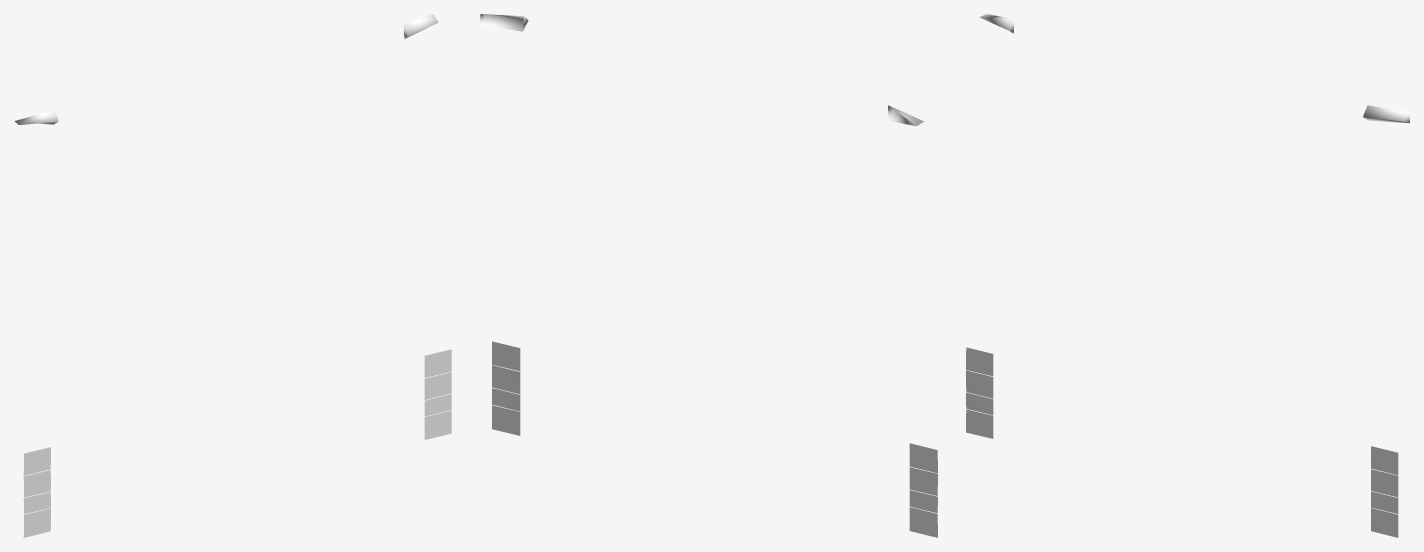
The picture shows the model from 3 angles, left to right: view 1: azimuth 30°, elevation 25°; view 2: azimuth 150°, elevation 25°; view 3: azimuth 330°, elevation 25°; orthographic projection. The views are drawn at different scales.
Bounding box in the file's own units: 1.96 × 1.81 × 0.1185.
Materials: 1 (1 with a texture image).
